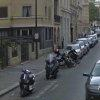Motorcycle: (12, 64, 38, 96)
